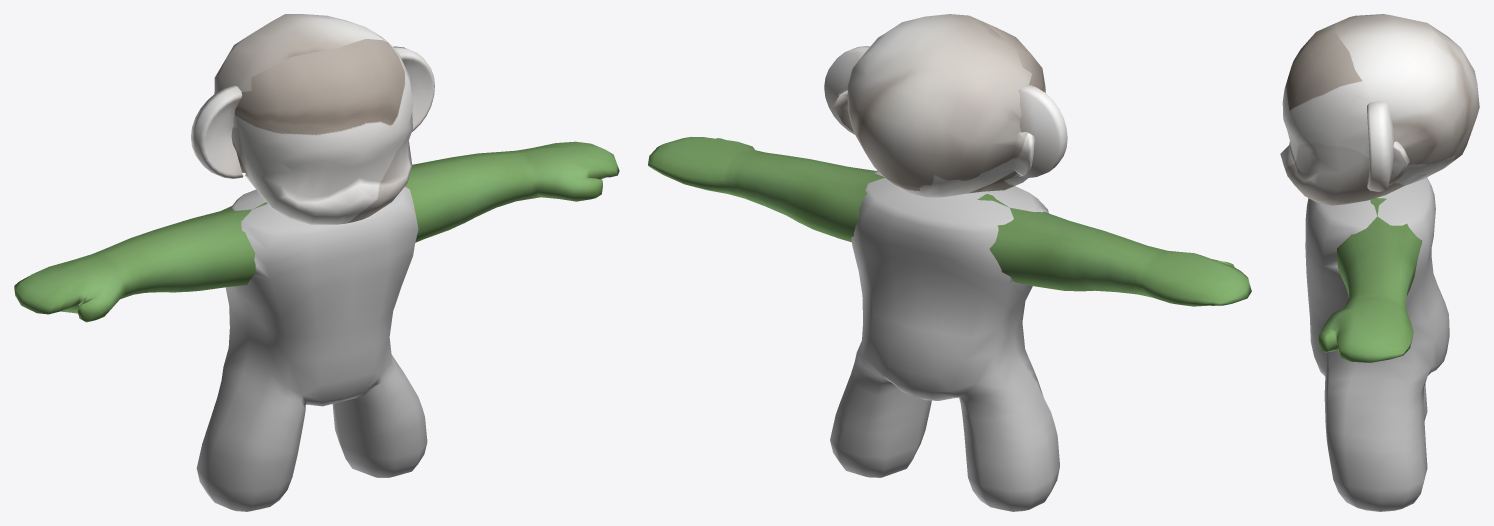
File: monkey-onlymesh.fbx
The picture shows the model from 3 angles, left to right: view 1: azimuth 30°, elevation 25°; view 2: azimuth 150°, elevation 25°; view 3: azimuth 270°, elevation 25°; orthographic projection. The views are drawn at different scales.
Visible parts, largest first — view 1: Body.004; view 2: Body.004; view 3: Body.004.
Boxes of the visible parts, box(x1,y1,x2,y2) form: Body.004: box(14, 14, 619, 511); Body.004: box(648, 14, 1251, 511); Body.004: box(1280, 14, 1479, 511).
Bounding box in the file's own units: 45.54 × 33.77 × 13.65.
